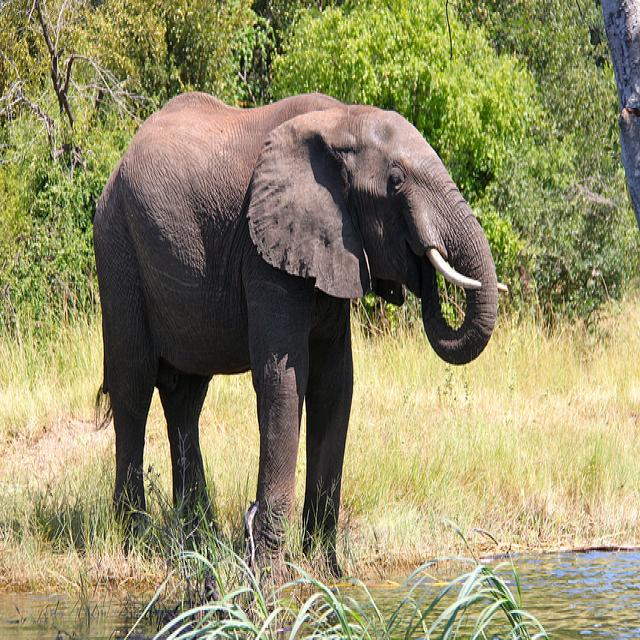Elephant: (91, 88, 507, 589)
